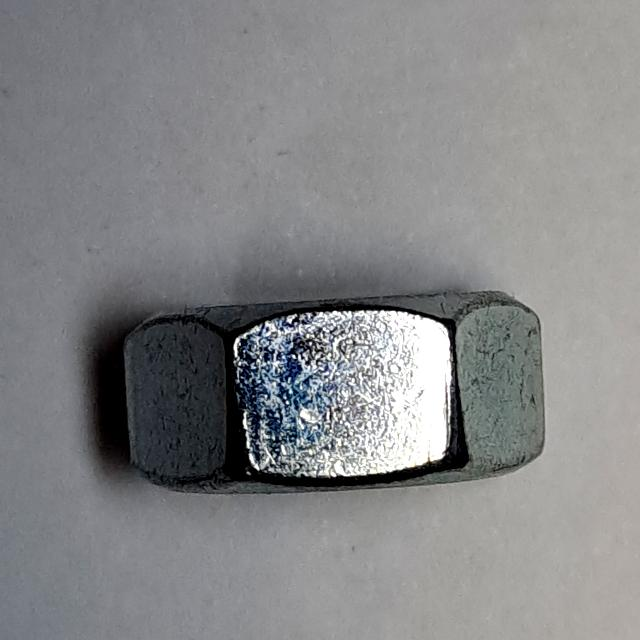Side_Excellent: (115, 282, 562, 514)
